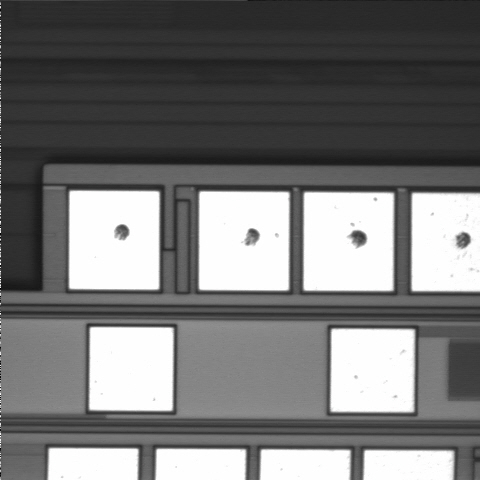pad: (69, 191, 159, 290), (304, 192, 394, 291), (199, 192, 289, 290), (89, 327, 173, 411), (331, 329, 414, 412)
